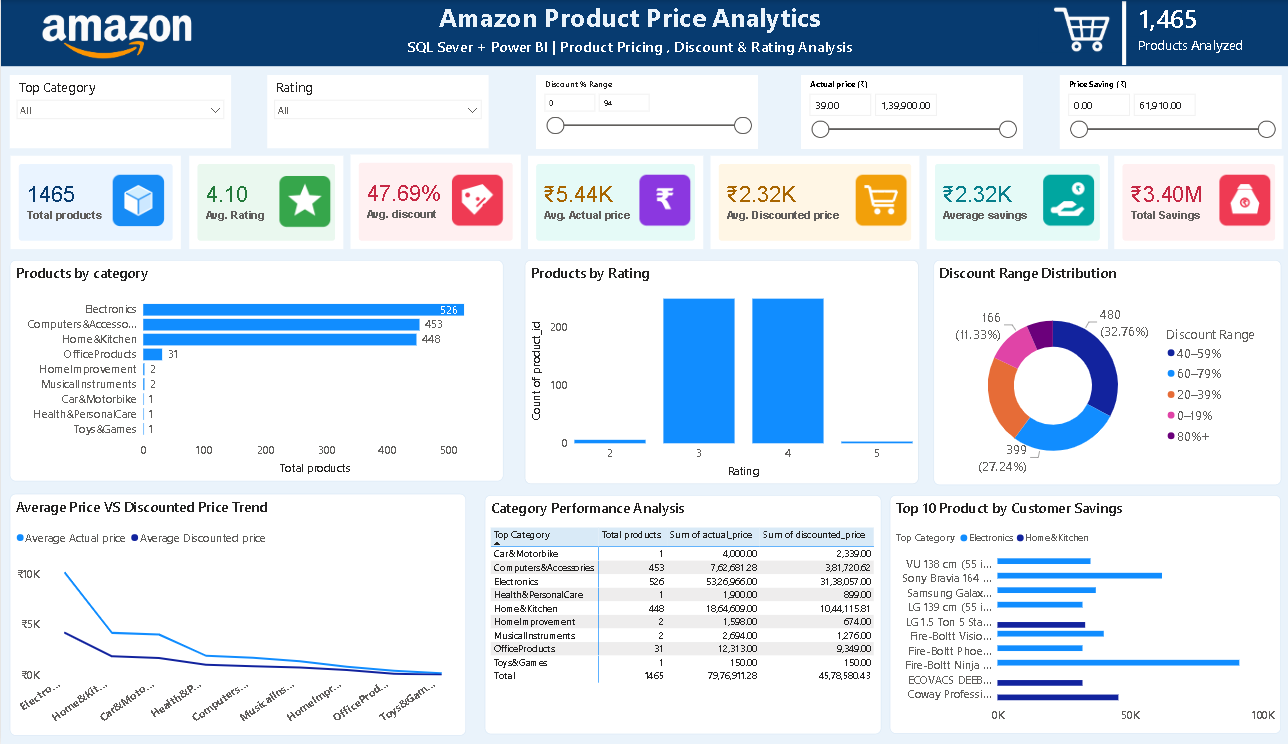

The dashboard page shown, as its layout file describes it:
{"tool":"powerbi","page":{"name":"Page 1","canvas":[1900,1100],"ordinal":0},"visuals":[{"type":"cardVisual","fields":{"Data":["amazon_products.Average Rating"]},"box":[272.8,224.9,237.8,147.5],"z":0},{"type":"cardVisual","fields":{"Data":["amazon_products.Average Discounted price"]},"box":[1041.4,224.9,318.2,147.3],"z":1000},{"type":"cardVisual","fields":{"Data":["amazon_products.Average Discount"]},"box":[510.6,223,261.7,149.3],"z":2000},{"type":"cardVisual","fields":{"Data":["amazon_products.Average Actual price"]},"box":[772.3,224.9,268.9,147.5],"z":3000},{"type":"cardVisual","fields":{"Data":["amazon_products.Total Savings"]},"box":[1636.7,224.9,259.9,147.5],"z":4000},{"type":"clusteredBarChart","title":" Products by category","fields":{"Y":["amazon_products.Total products"],"Category":["amazon_products.Top Category"]},"box":[12.9,383.4,728.1,326.2],"z":5000},{"type":"donutChart","title":"Discount Range Distribution","fields":{"Category":["amazon_products.Discount Range"],"Y":["amazon_products.Total products"]},"box":[1375,383.4,512.4,331.8],"z":6000},{"type":"clusteredBarChart","title":"Top 10 Product by Customer Savings","fields":{"Category":["amazon_products.product_name"],"Series":["amazon_products.Top Category"],"Y":["Sum(amazon_products.price_savings)"]},"box":[1310.5,729.9,576.9,352],"z":7000},{"type":"pivotTable","title":"Category Performance Analysis","fields":{"Rows":["amazon_products.Top Category"],"Values":["amazon_products.Total products","Sum(amazon_products.actual_price)","Sum(amazon_products.discounted_price)"]},"box":[713.3,729.9,584.8,353.1],"z":8000},{"type":"slicer","title":"category Filter","fields":{"Values":["amazon_products.Top Category"]},"box":[12.9,110.6,326,108],"z":9000},{"type":"slicer","title":"Rating Filter","fields":{"Values":["amazon_products.rating"]},"box":[392.6,110.6,326,108],"z":10000},{"type":"slicer","title":"Discount Filter","fields":{"Values":["amazon_products.discount_percentage"]},"box":[788.9,110.6,326,108],"z":11000},{"type":"slicer","title":"Price Filter","fields":{"Values":["amazon_products.actual_price"]},"box":[1179.6,110.6,326,108],"z":12000},{"type":"clusteredColumnChart","title":" Products by Rating","fields":{"Y":["CountNonNull(amazon_products.product_id)"],"Category":["amazon_products.rating (bins)"]},"box":[772.3,383.4,581,330.7],"z":13000},{"type":"lineChart","title":"Average Price VS Discounted Price Trend","fields":{"Y":["amazon_products.Average Actual price","amazon_products.Average Discounted price"],"Category":["amazon_products.Top Category"]},"box":[12.9,728.1,672.6,356.8],"z":14000},{"type":"slicer","fields":{"Values":["amazon_products.price_savings"]},"box":[1561.2,110.6,326.2,108.7],"z":15000},{"type":"shape","box":[0,0,1900.3,97.7],"z":16000},{"type":"image","box":[9.2,7.4,315.2,88.5],"z":17000},{"type":"textbox","title":"Amazon Product Price Analytics","box":[491.3,0,870,86.7],"z":18000},{"type":"image","box":[1530.1,7.5,126.7,70],"z":19000},{"type":"textbox","title":"1,465","box":[1673.9,1.9,160,55],"z":20000},{"type":"textbox","title":"Products Analyzed","box":[1657.1,54.2,193.3,41.7],"z":21000},{"type":"cardVisual","fields":{"Data":["amazon_products.Average savings"]},"box":[1360.3,224.9,277,147.3],"z":22000},{"type":"image","box":[916.1,250.7,125,89],"z":23000},{"type":"image","box":[639.6,250.7,125,89],"z":24000},{"type":"image","box":[1234.9,250.7,125,89],"z":25000},{"type":"image","box":[1511.4,250.7,125,89],"z":26000},{"type":"cardVisual","fields":{"Data":["amazon_products.Total products"]},"box":[9.2,224.9,261.7,147.5],"z":27000},{"type":"image","box":[1771.3,250.7,125,89],"z":28000},{"type":"image","box":[385.2,252.5,125,89],"z":29000},{"type":"image","box":[140.1,250.7,125.2,89.7],"z":30000},{"type":"shape","box":[1505.9,1.8,300.4,94],"z":31000}]}

Visuals, with their boxes in screenshot pixels (x1, y1, x2, y2), scaled from the page's 1900x1100 canvas onto the 1288x744 screenshot:
cardVisual - amazon_products.Average Rating: region(185, 152, 346, 252)
cardVisual - amazon_products.Average Discounted price: region(706, 152, 922, 252)
cardVisual - amazon_products.Average Discount: region(346, 151, 524, 252)
cardVisual - amazon_products.Average Actual price: region(524, 152, 706, 252)
cardVisual - amazon_products.Total Savings: region(1110, 152, 1286, 252)
" Products by category" clusteredBarChart: region(9, 259, 502, 480)
"Discount Range Distribution" donutChart: region(932, 259, 1279, 484)
"Top 10 Product by Customer Savings" clusteredBarChart: region(888, 494, 1279, 732)
"Category Performance Analysis" pivotTable: region(484, 494, 880, 733)
"category Filter" slicer: region(9, 75, 230, 148)
"Rating Filter" slicer: region(266, 75, 487, 148)
"Discount Filter" slicer: region(535, 75, 756, 148)
"Price Filter" slicer: region(800, 75, 1021, 148)
" Products by Rating" clusteredColumnChart: region(524, 259, 917, 483)
"Average Price VS Discounted Price Trend" lineChart: region(9, 492, 465, 734)
slicer - amazon_products.price_savings: region(1058, 75, 1279, 148)
shape: region(0, 0, 1287, 66)
image: region(6, 5, 220, 65)
"Amazon Product Price Analytics" textbox: region(333, 0, 923, 59)
image: region(1037, 5, 1123, 52)
"1,465" textbox: region(1135, 1, 1243, 38)
"Products Analyzed" textbox: region(1123, 37, 1254, 65)
cardVisual - amazon_products.Average savings: region(922, 152, 1110, 252)
image: region(621, 170, 706, 230)
image: region(434, 170, 518, 230)
image: region(837, 170, 922, 230)
image: region(1025, 170, 1109, 230)
cardVisual - amazon_products.Total products: region(6, 152, 184, 252)
image: region(1201, 170, 1285, 230)
image: region(261, 171, 346, 231)
image: region(95, 170, 180, 230)
shape: region(1021, 1, 1224, 65)
